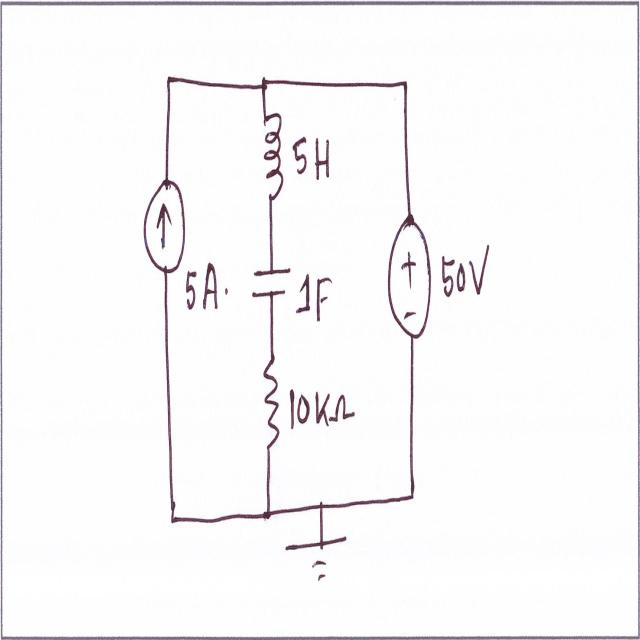capacitor: (248, 254, 296, 308)
current_source: (140, 169, 187, 281)
ground: (282, 529, 349, 591)
inductor: (262, 105, 285, 216)
resistor: (261, 336, 285, 466)
voltage_source: (384, 208, 435, 348)
